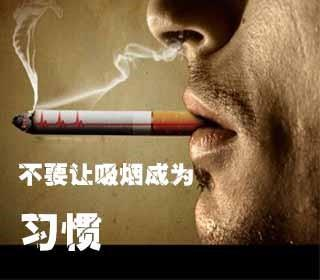Cigarette: (11, 108, 202, 134)
Smoke: (12, 1, 175, 104)
